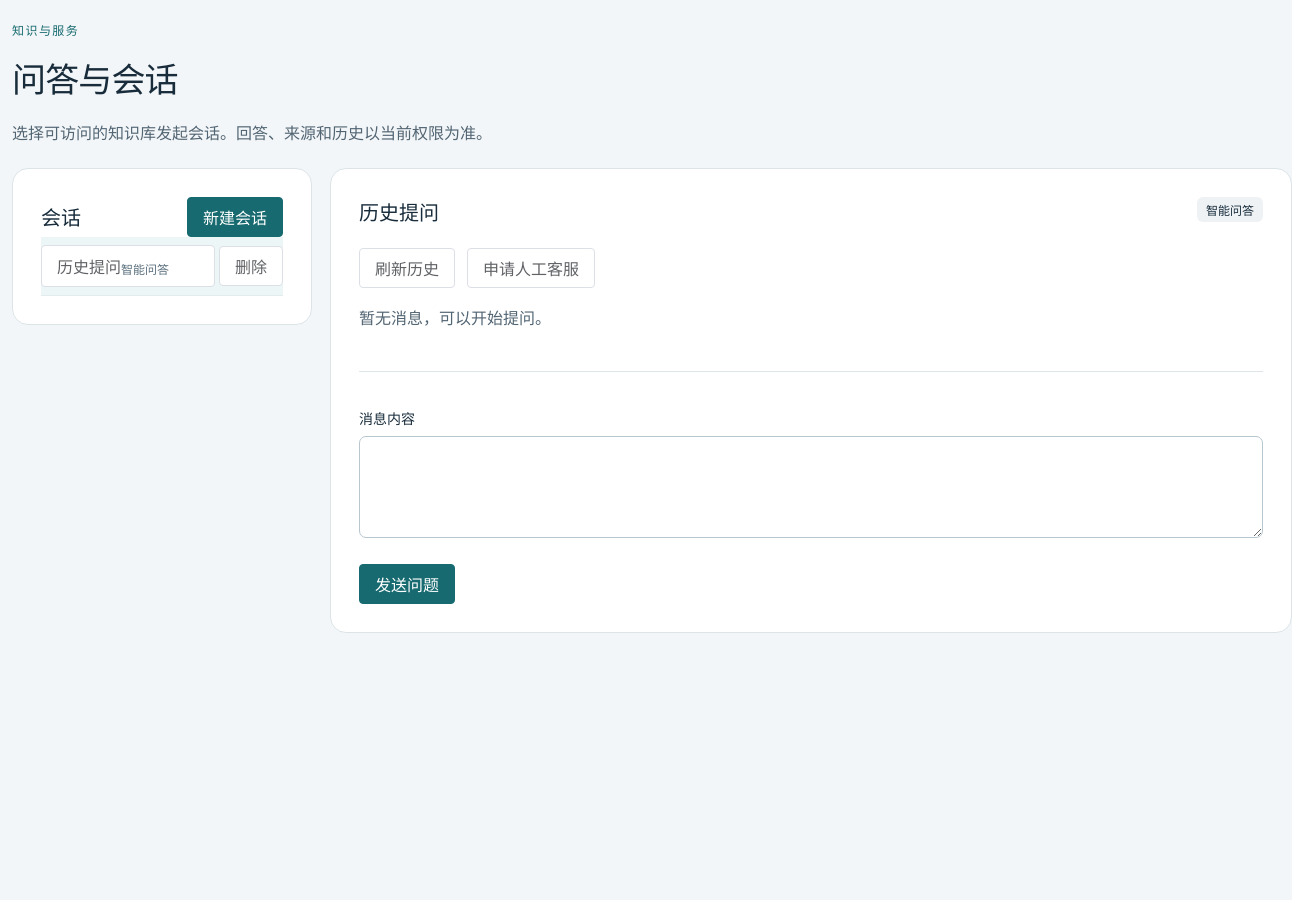
Test: keeps a rate-limit explanation visible after refreshing history
Type "还有问题" into the text box named "消息内容" at (811, 487), box [359, 436, 1263, 538]
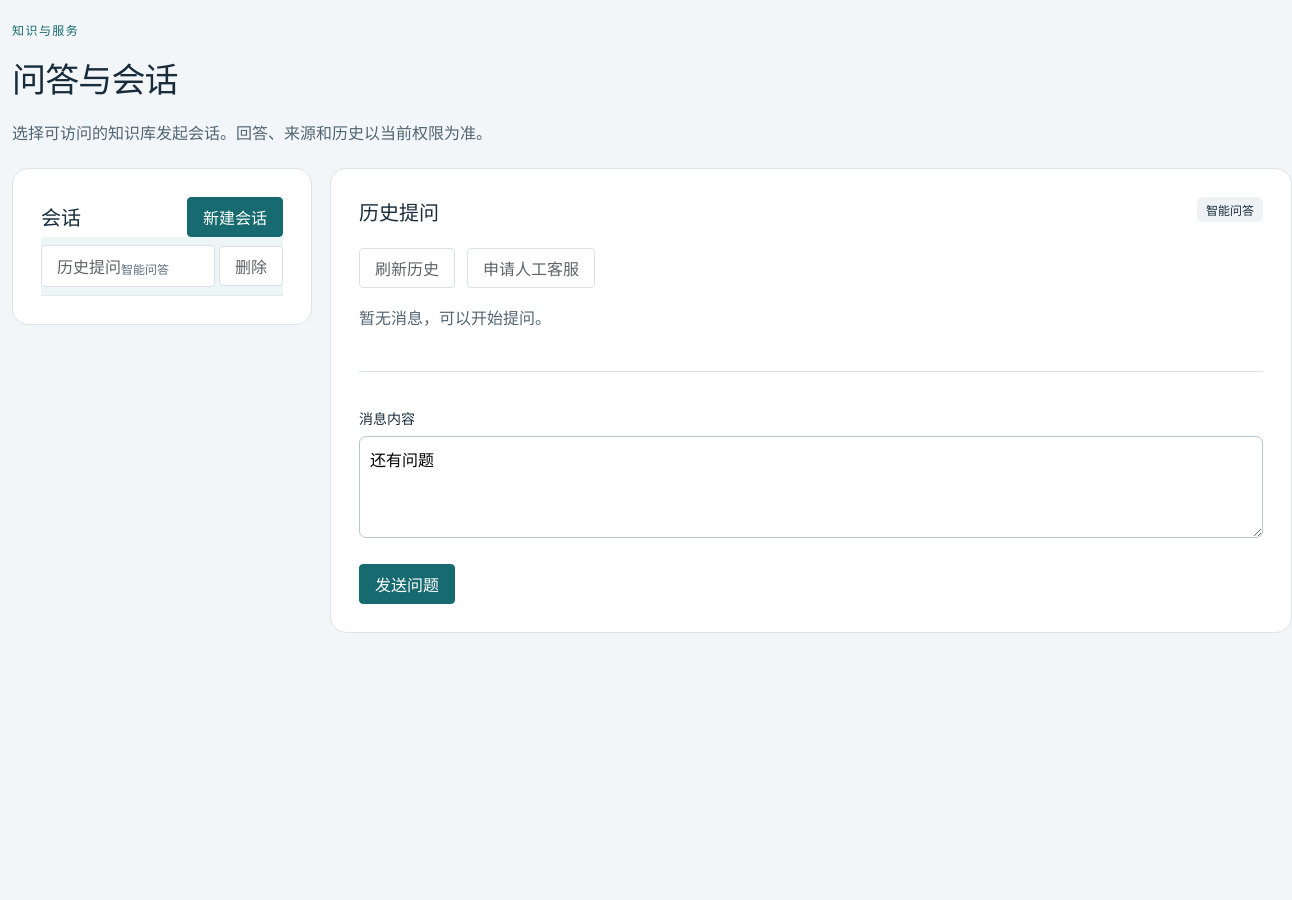
Submit the form with class "composer", box [359, 371, 1263, 604]
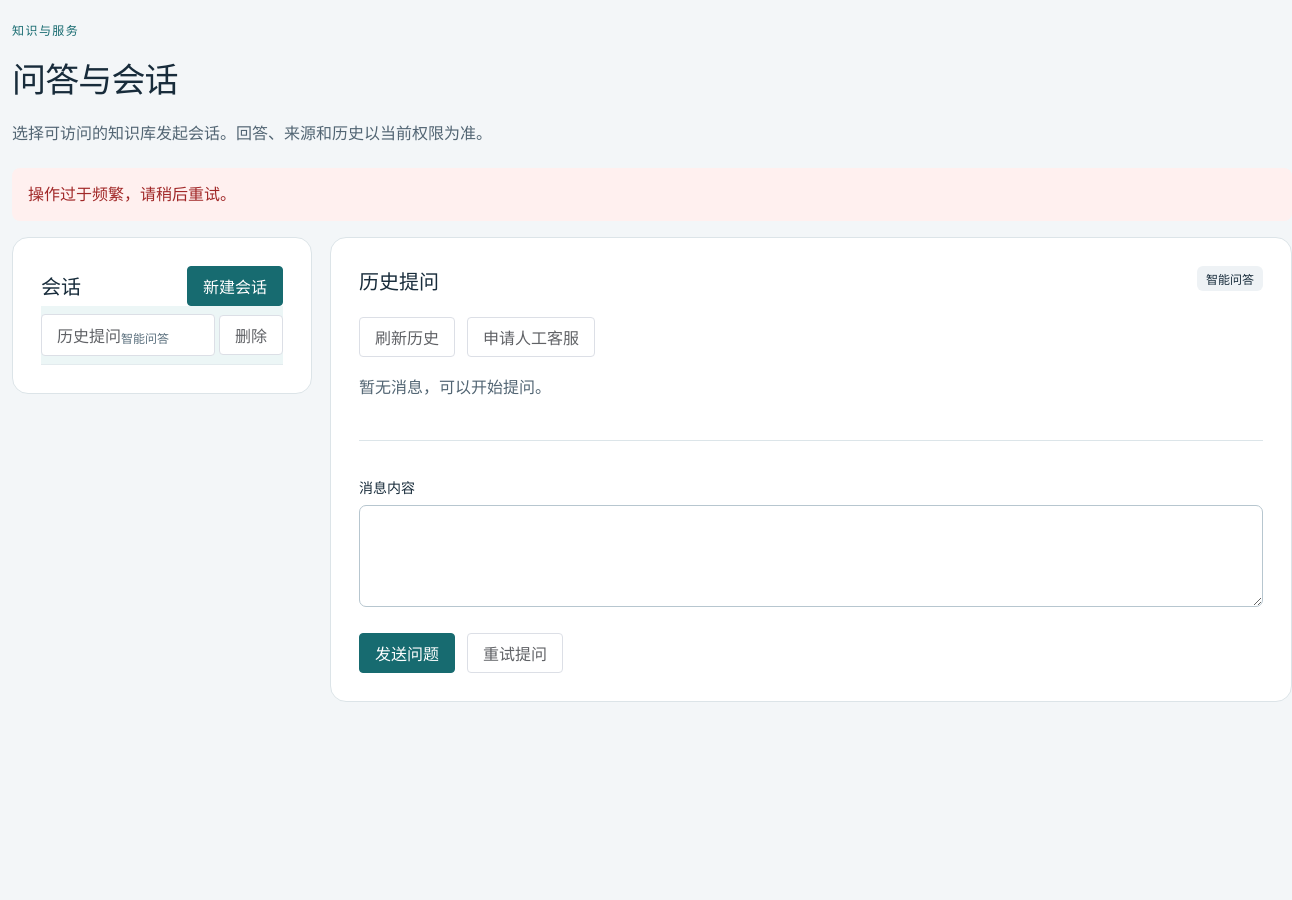
Result: the message "操作过于频繁，请稍后重试。" is shown at [12, 168, 1291, 221]
Result: the text "重试提问" is shown at [483, 641, 547, 665]
